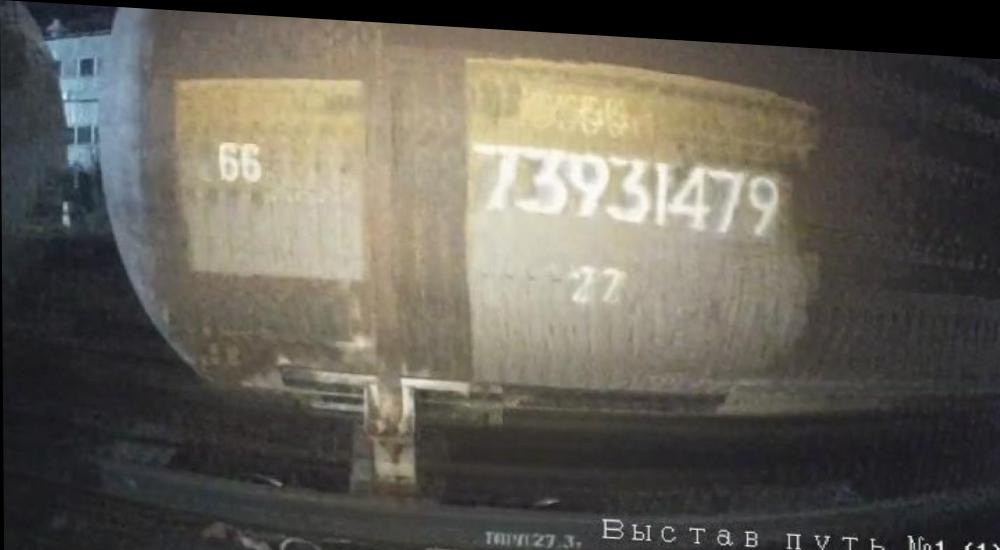Wagon-number: (469, 131, 783, 232)
